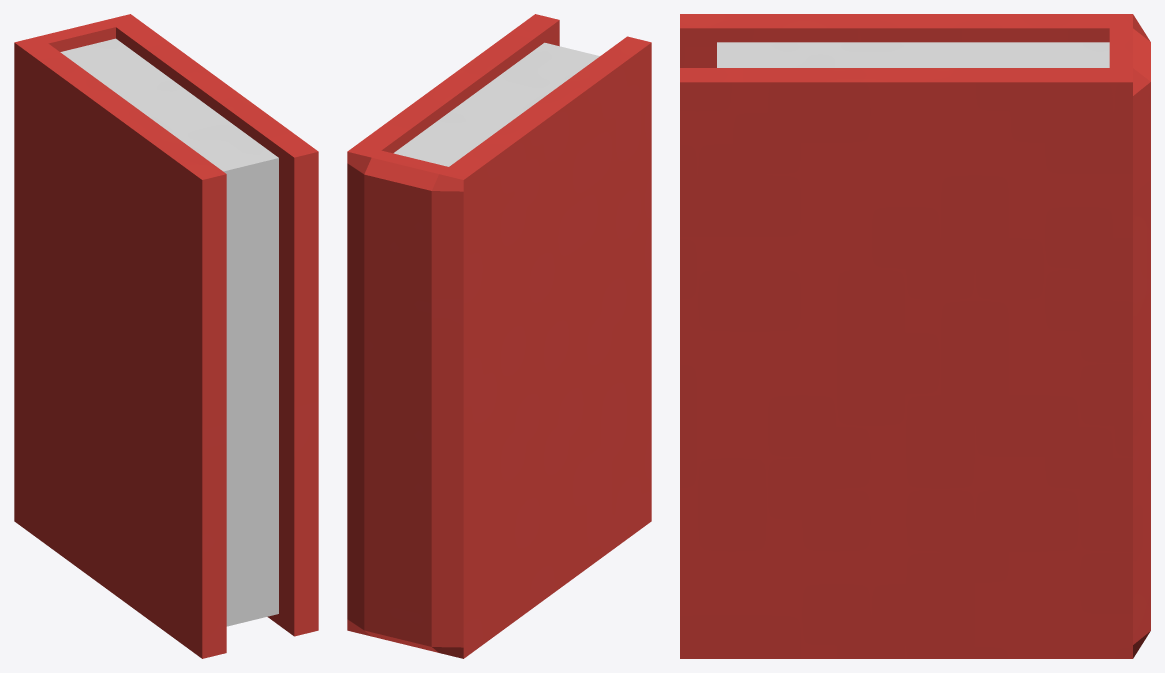
File: Book_01_03.fbx
3 renders of one model, left to right at view 1: azimuth 30°, elevation 25°; view 2: azimuth 150°, elevation 25°; view 3: azimuth 270°, elevation 25°, orthographic. The views are drawn at different scales.
Parts seen in each view (by area): view 1: Book_01_03; view 2: Book_01_03; view 3: Book_01_03.
Boxes of the visible parts, <box> form: Book_01_03: <box>14,14,318,658</box>; Book_01_03: <box>347,14,651,658</box>; Book_01_03: <box>680,14,1150,658</box>.
Size of the model in its own units: 0.0979 by 0.3847 by 0.2847.
